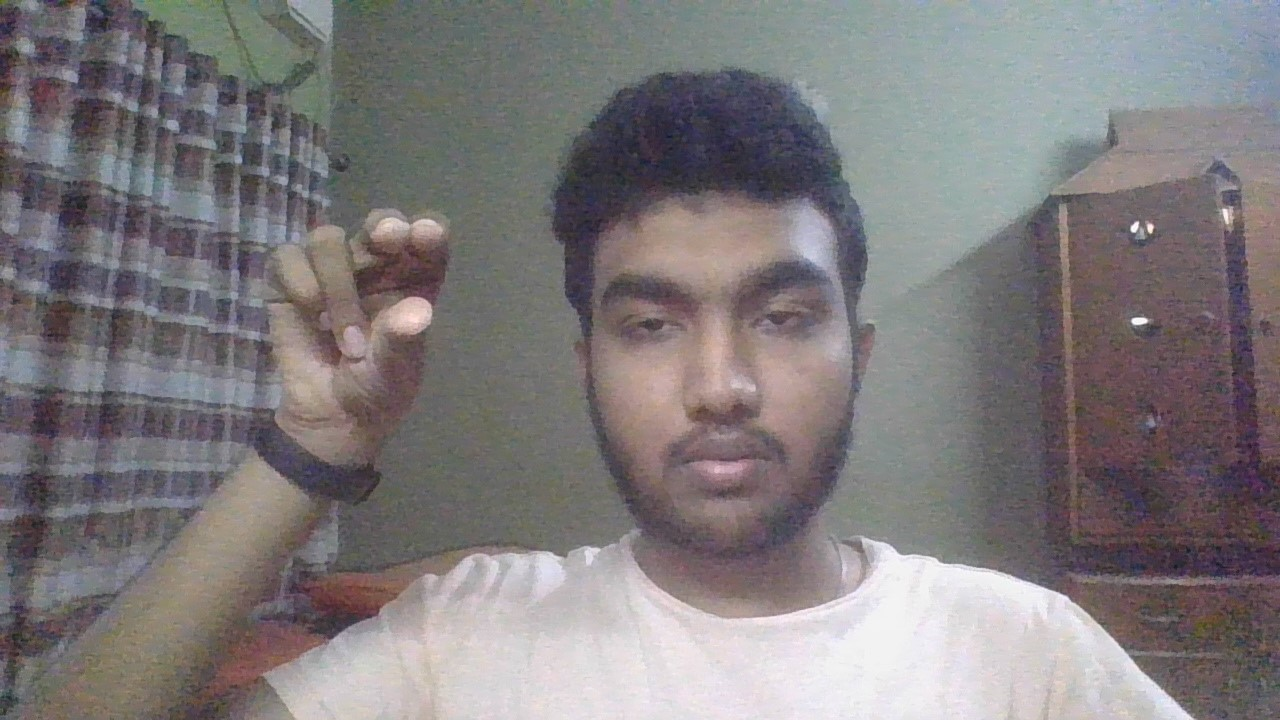No: (255, 205, 483, 485)
